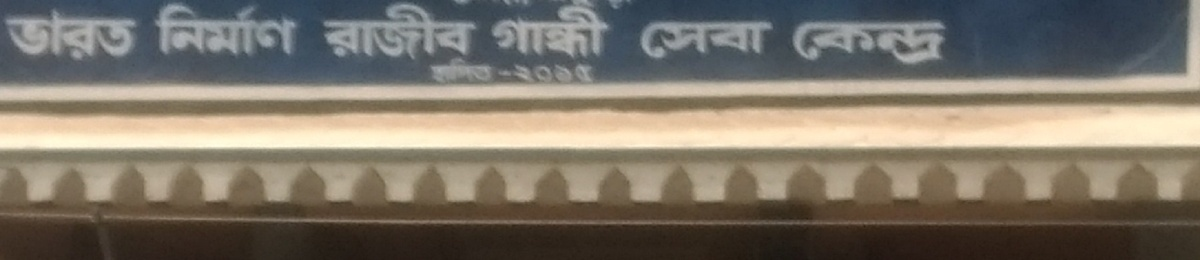text: (337, 3, 352, 63), (353, 3, 368, 63), (369, 3, 384, 63), (385, 3, 400, 63), (401, 3, 416, 63), (417, 3, 432, 63), (433, 3, 448, 63), (449, 3, 464, 63), (497, 5, 512, 63), (513, 5, 528, 63), (529, 5, 544, 63), (545, 5, 560, 63), (561, 5, 576, 63), (577, 5, 592, 63), (593, 5, 608, 63), (17, 8, 32, 65), (33, 8, 48, 65), (49, 8, 64, 65), (65, 8, 80, 65), (81, 8, 96, 65), (97, 8, 112, 65), (113, 8, 128, 65), (161, 2, 176, 59), (177, 2, 192, 59), (193, 2, 208, 59), (209, 2, 224, 59), (225, 2, 240, 59), (241, 2, 256, 59), (257, 2, 272, 59), (273, 2, 288, 59), (465, 3, 479, 63), (323, 3, 336, 63), (801, 21, 816, 73), (817, 21, 832, 73), (833, 21, 848, 73), (849, 21, 864, 73), (865, 21, 880, 73), (881, 21, 896, 73), (897, 21, 912, 73), (913, 21, 928, 73), (929, 21, 944, 73), (289, 2, 301, 59), (641, 21, 656, 62), (657, 21, 672, 62), (673, 21, 688, 62), (689, 21, 704, 62), (705, 21, 720, 62), (721, 21, 736, 62), (737, 21, 752, 62), (753, 21, 768, 62), (129, 8, 139, 65), (7, 8, 16, 65), (151, 2, 160, 59), (791, 21, 800, 73), (945, 21, 953, 73), (433, 59, 448, 85), (449, 59, 464, 85), (465, 59, 480, 85), (481, 59, 495, 85), (497, 63, 512, 87), (513, 63, 528, 87), (529, 63, 544, 87), (545, 63, 560, 87), (561, 63, 576, 87), (577, 63, 592, 87), (490, 5, 496, 63), (769, 21, 775, 62), (609, 5, 613, 63), (497, 1, 512, 10), (513, 1, 528, 10), (577, 1, 592, 9), (593, 1, 608, 9), (609, 1, 624, 9), (563, 1, 576, 9), (593, 63, 597, 87), (449, 1, 464, 7), (465, 1, 480, 7), (529, 1, 535, 10), (430, 59, 432, 85), (494, 63, 496, 87), (639, 21, 640, 62), (625, 1, 629, 9), (481, 1, 483, 7), (447, 1, 448, 7)
